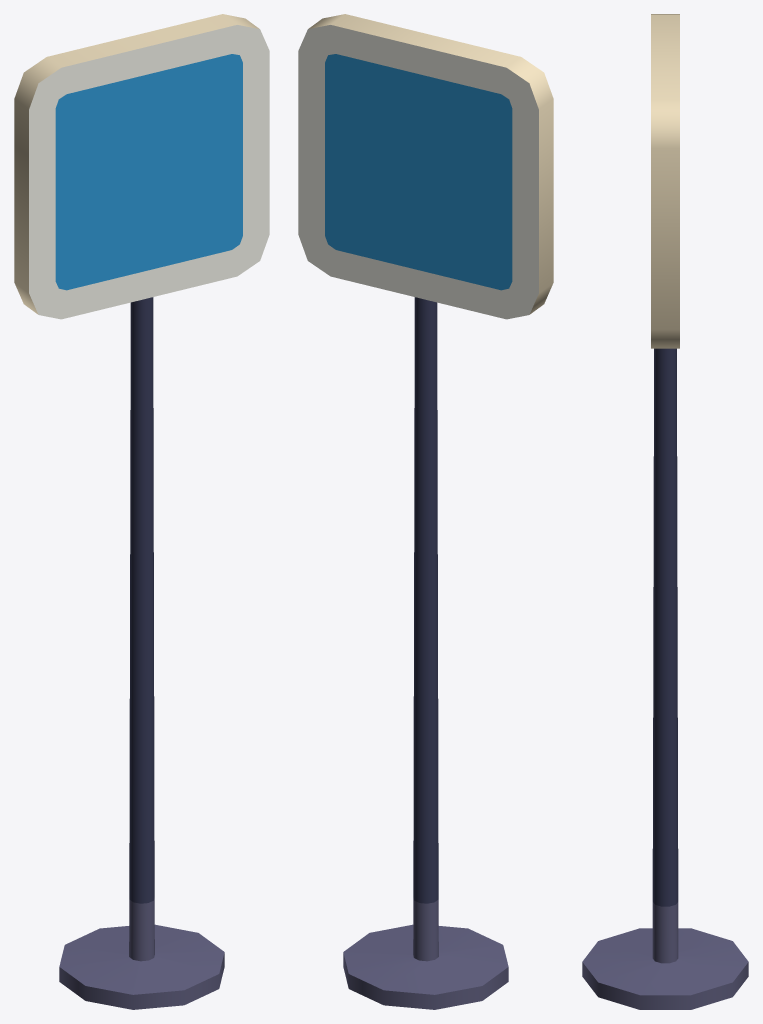
Rendered from sing.fbx.
The picture shows the model from 3 angles, left to right: view 1: azimuth 30°, elevation 25°; view 2: azimuth 150°, elevation 25°; view 3: azimuth 270°, elevation 25°; orthographic projection.
Visible parts, largest first — view 1: Sing; view 2: Sing; view 3: Sing.
Part boxes in pixels (box(x1,y1,x2,y2)): Sing: box(14, 14, 269, 1009); Sing: box(298, 14, 553, 1009); Sing: box(582, 14, 748, 1009).
Size of the model in its own units: 78.84 by 293 by 47.99.
Materials: 1 (1 with a texture image).
